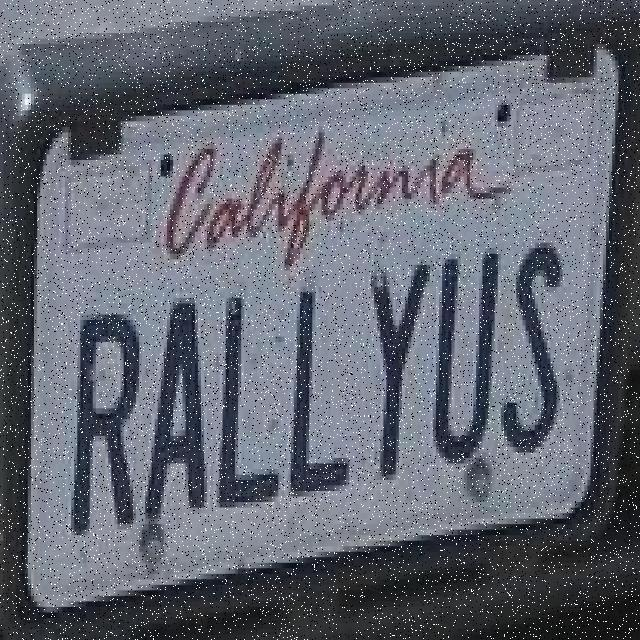LicensePlate: (13, 30, 632, 604)
